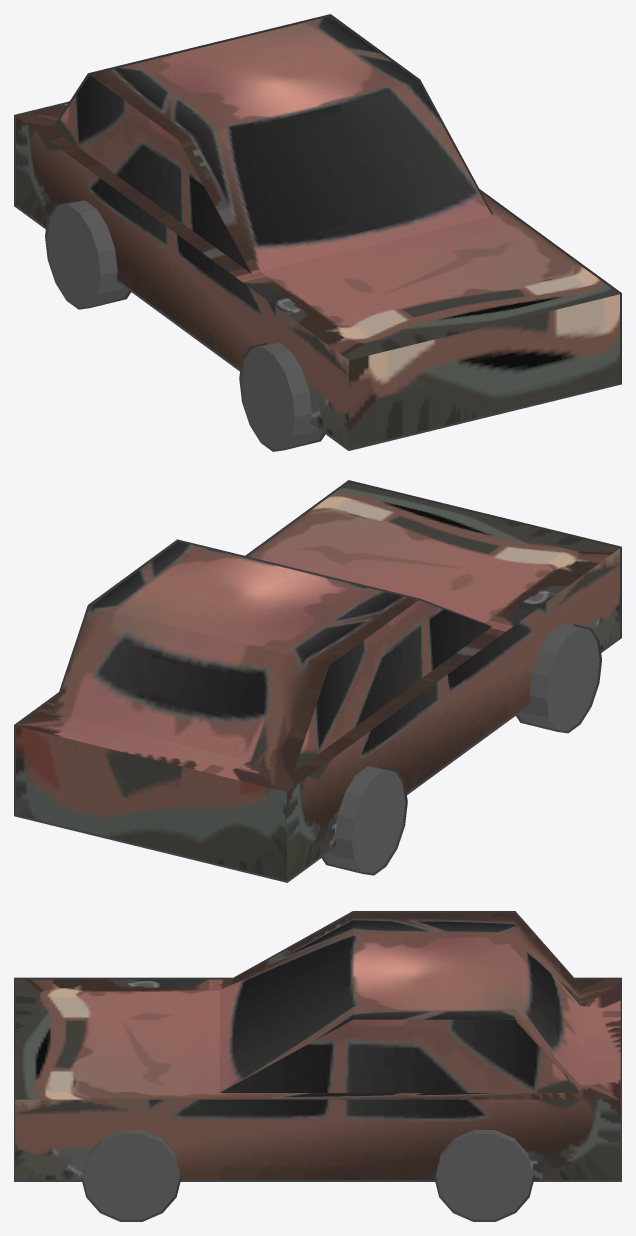
The model's file is Building_AncientRustedCar.glb.
3 renders of one model, top to bottom at view 1: azimuth 30°, elevation 25°; view 2: azimuth 150°, elevation 25°; view 3: azimuth 270°, elevation 25°, orthographic. The views are drawn at different scales.
Visible parts, largest first — view 1: AncientRustedCar, Outline; view 2: AncientRustedCar, Outline; view 3: AncientRustedCar, Outline.
Boxes of the visible parts, bbox=[...] form: AncientRustedCar: bbox=[16, 16, 619, 449]; Outline: bbox=[14, 14, 621, 451]; AncientRustedCar: bbox=[16, 482, 619, 880]; Outline: bbox=[14, 480, 621, 882]; AncientRustedCar: bbox=[15, 913, 620, 1219]; Outline: bbox=[14, 911, 621, 1221].
Bounding box in the file's own units: 1.95 × 1.31 × 3.77.
2 materials, 1 textured.
